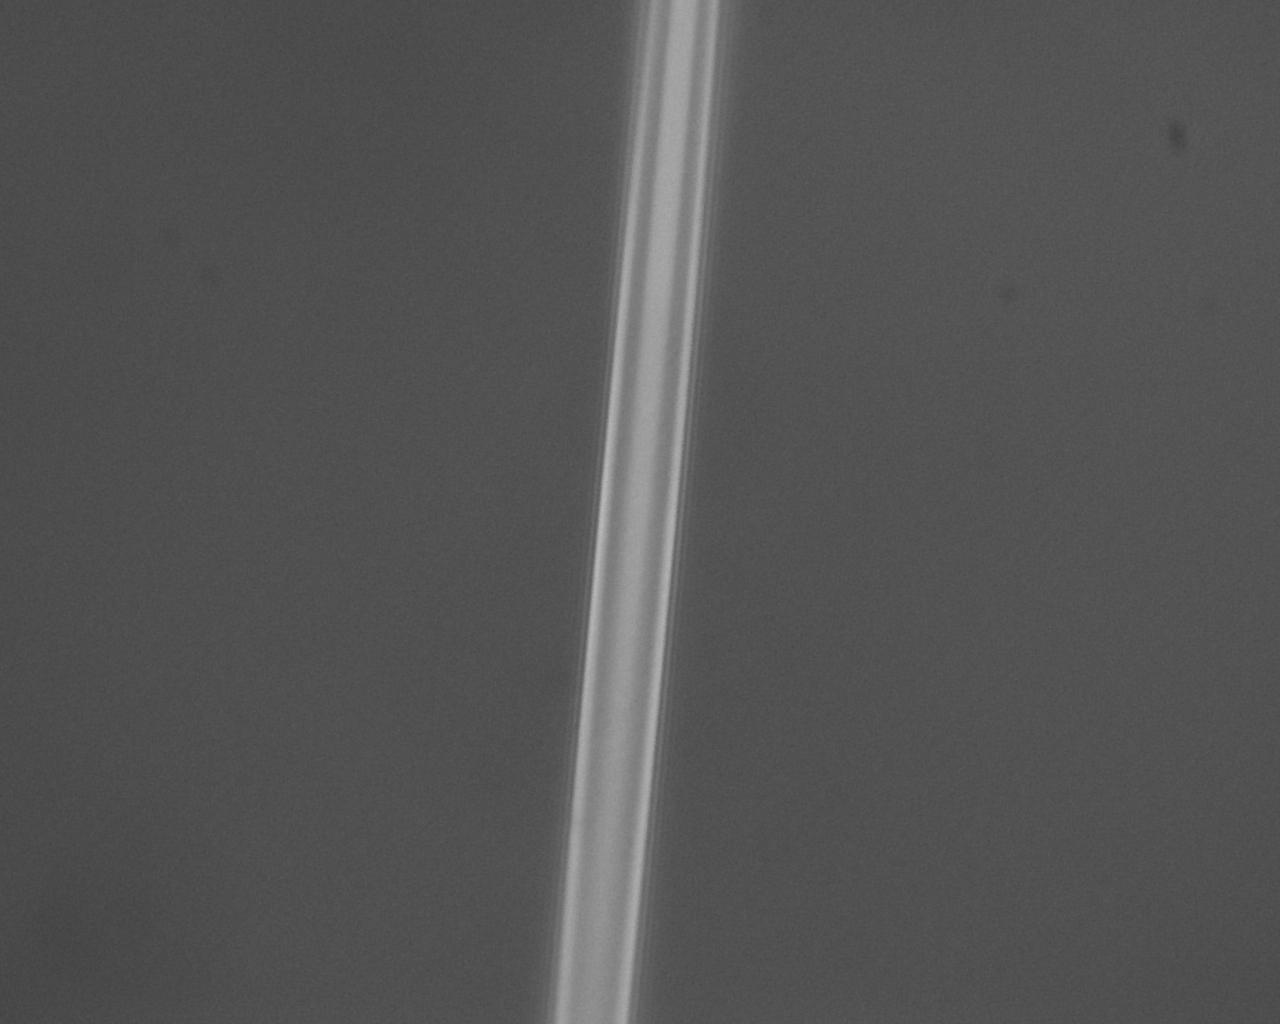fiber: (870, 491, 1149, 1024), (245, 491, 457, 1024), (316, 0, 510, 491), (1141, 0, 1187, 491)
